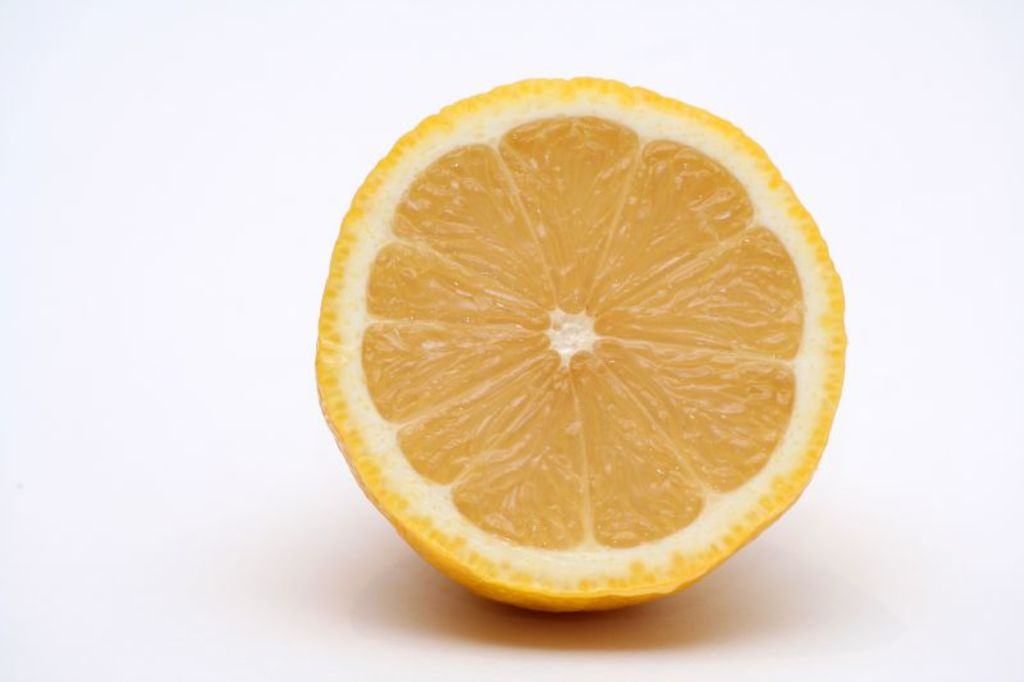Ripe: (306, 68, 855, 642)
